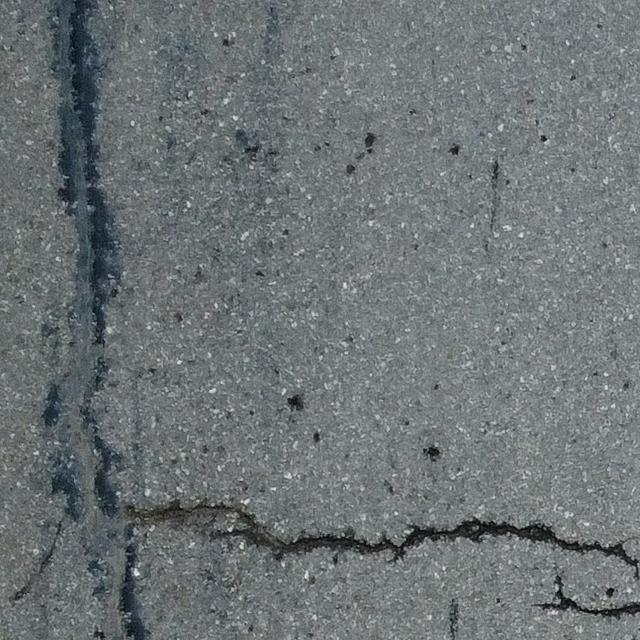TransverseCrack: (118, 499, 640, 575), (538, 574, 640, 619)
